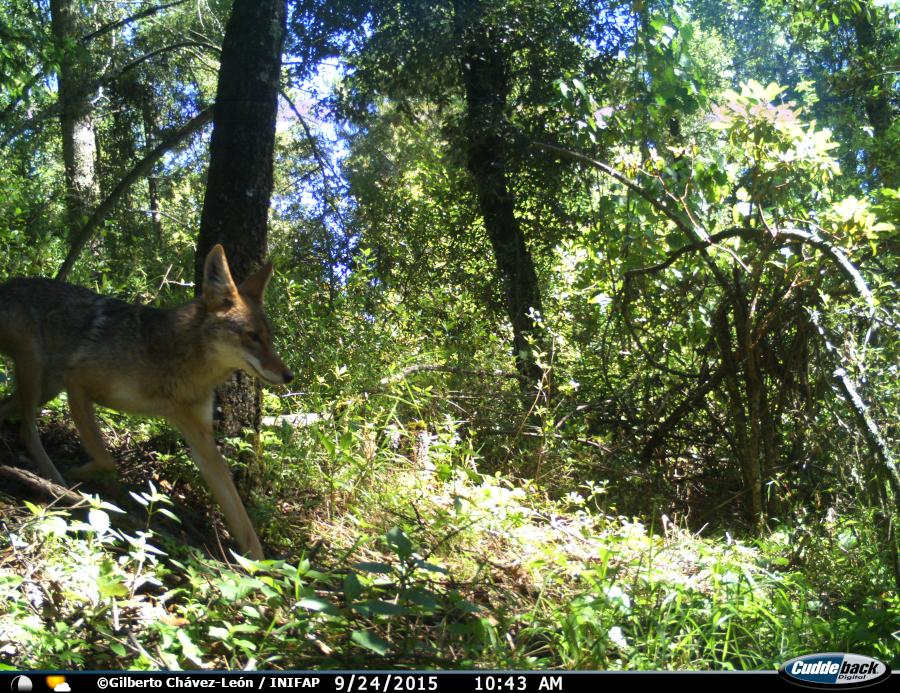Coyote: (0, 241, 296, 567)
